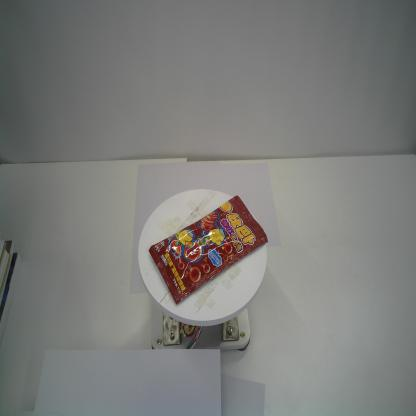Candy: (148, 194, 269, 305)
